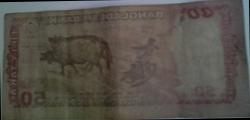50 taka: (5, 4, 249, 118)
